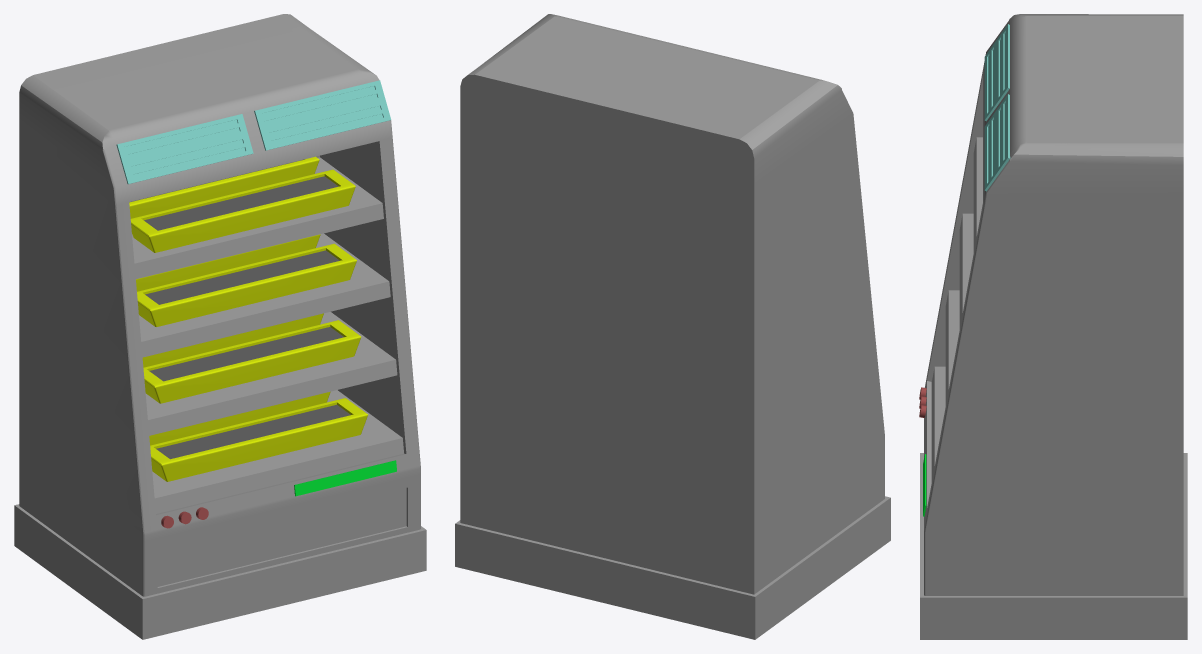
Rendered from planter_02.fbx.
3 renders of one model, left to right at view 1: azimuth 30°, elevation 25°; view 2: azimuth 150°, elevation 25°; view 3: azimuth 270°, elevation 25°, orthographic. The views are drawn at different scales.
Visible parts, largest first — view 1: Planter_02; view 2: Planter_02; view 3: Planter_02.
Boxes of the visible parts, x1,y1,x2,y2 form: Planter_02: (14, 14, 426, 639); Planter_02: (455, 14, 890, 639); Planter_02: (919, 14, 1187, 639).
Bounding box in the file's own units: 2.04 × 3.22 × 1.6.
